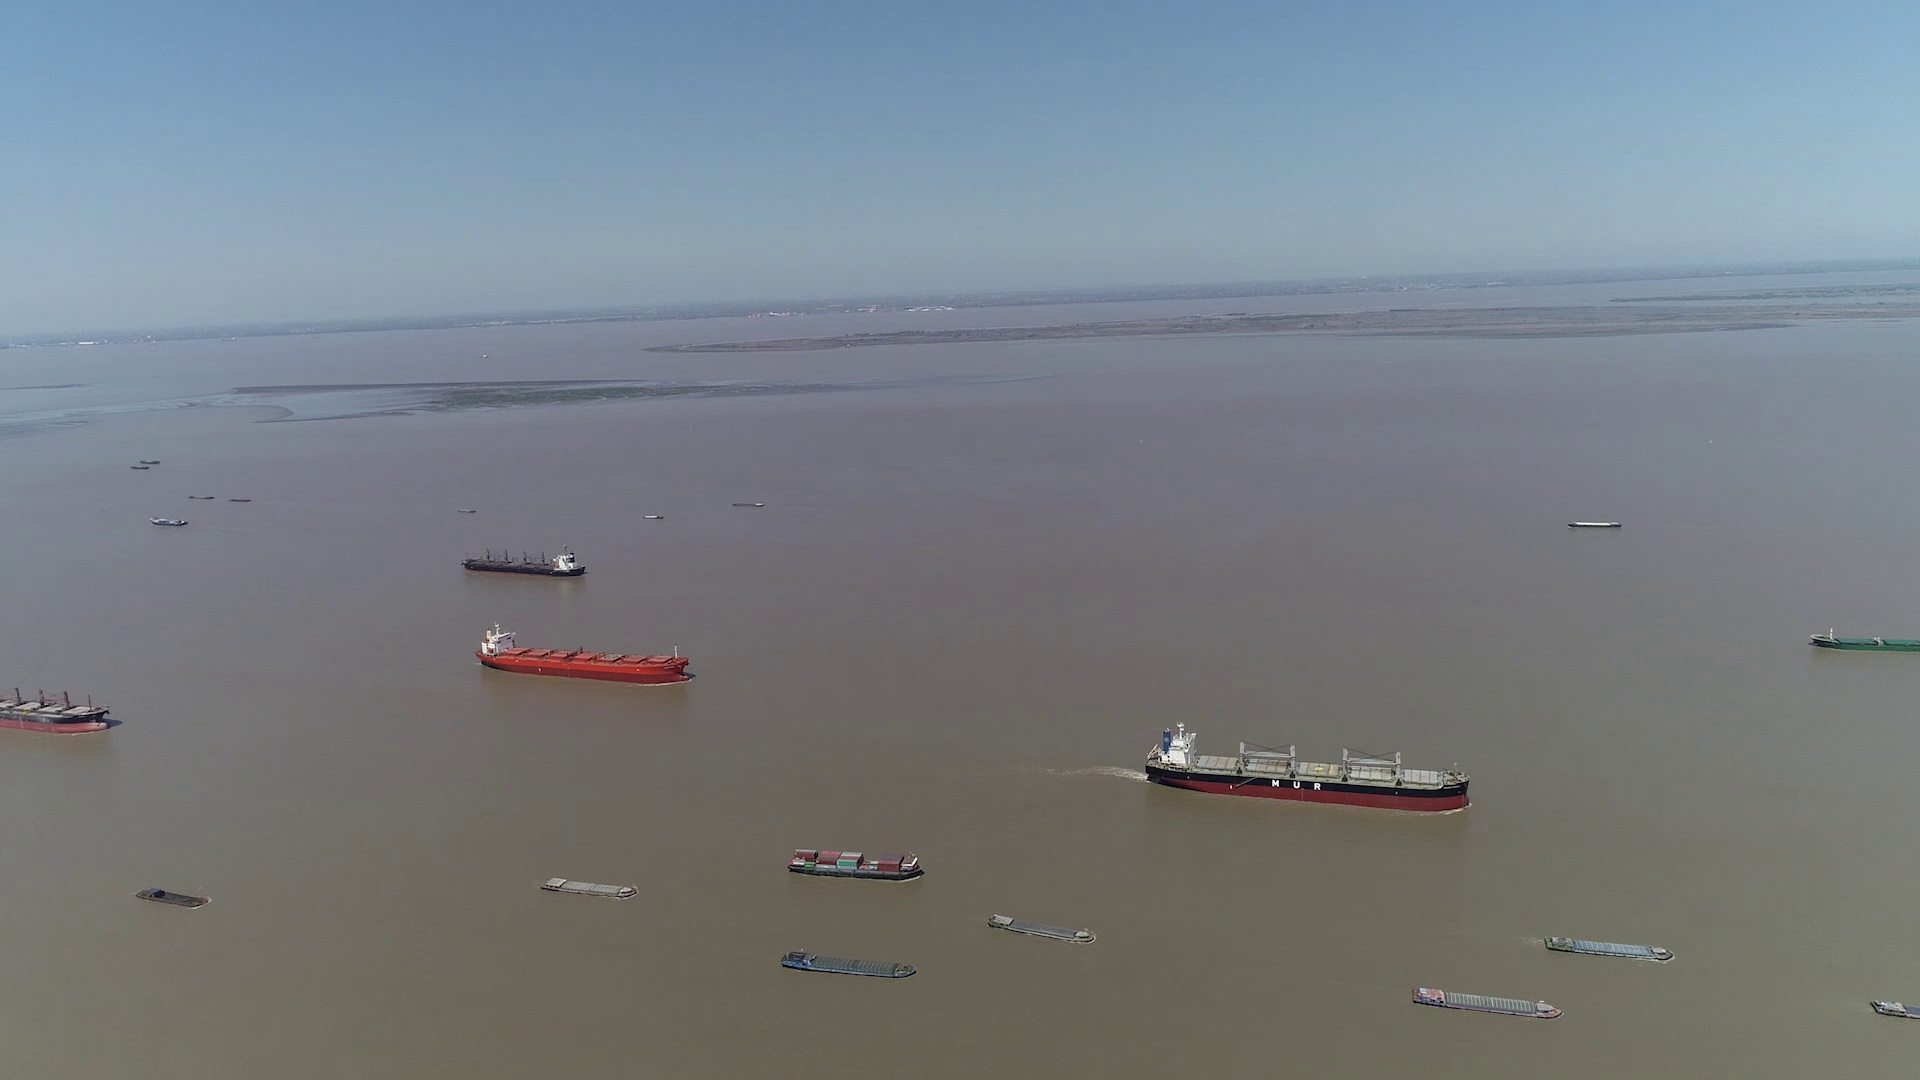ship: (1145, 723, 1473, 812), (477, 624, 686, 684), (0, 671, 113, 735), (1412, 986, 1565, 1021), (789, 848, 923, 881), (781, 949, 918, 980), (462, 545, 585, 576), (1543, 935, 1677, 963), (992, 914, 1096, 944), (1809, 629, 1919, 654), (541, 876, 637, 899), (137, 887, 208, 909), (1869, 997, 1919, 1023), (1571, 520, 1621, 529), (152, 516, 190, 526)
